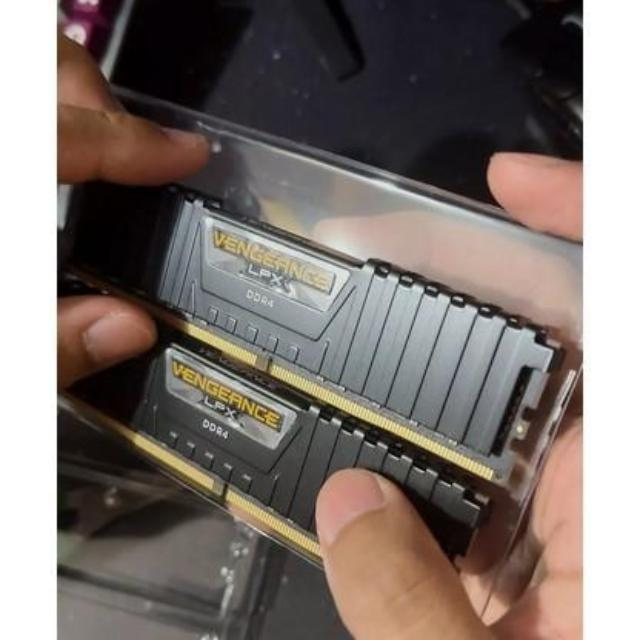RAM: (58, 163, 570, 492), (30, 294, 524, 598)
